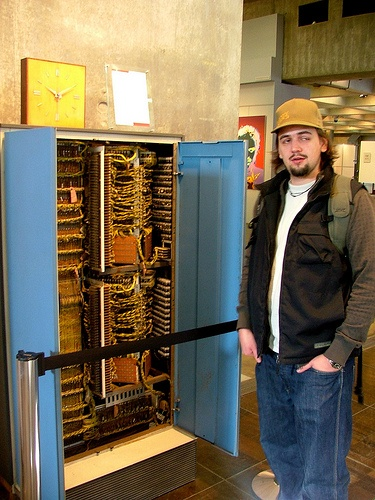head: (277, 123, 329, 178)
person: (234, 98, 374, 499)
